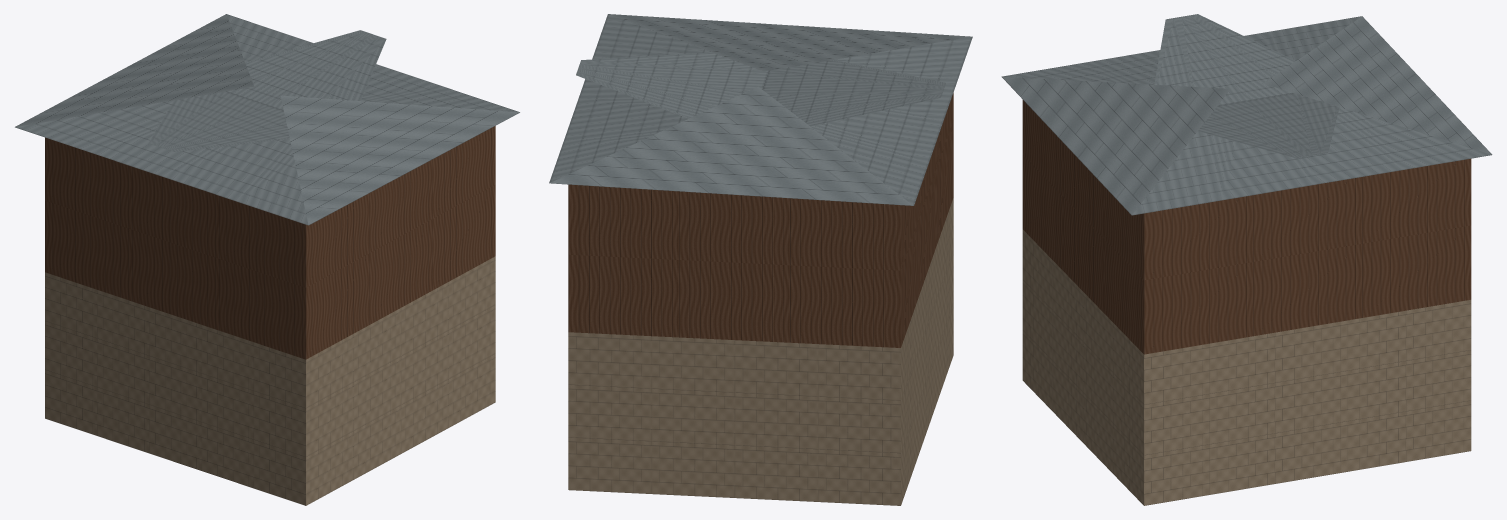
Rendered from bld_c9_15_453.gltf.
3 views of the same model, side by side, from view 1: azimuth 30°, elevation 25°; view 2: azimuth 150°, elevation 25°; view 3: azimuth 270°, elevation 25° (orthographic). The views are drawn at different scales.
Visible parts, largest first — view 1: bld_c9_15_453; view 2: bld_c9_15_453; view 3: bld_c9_15_453.
Boxes of the visible parts, left/top/right/bottom form: bld_c9_15_453: left=15, top=14, right=519, bottom=505; bld_c9_15_453: left=549, top=14, right=972, bottom=505; bld_c9_15_453: left=1001, top=14, right=1492, bottom=505.
Size of the model in its own units: 14.4 by 11.1 by 15.
3 materials, 3 textured.
